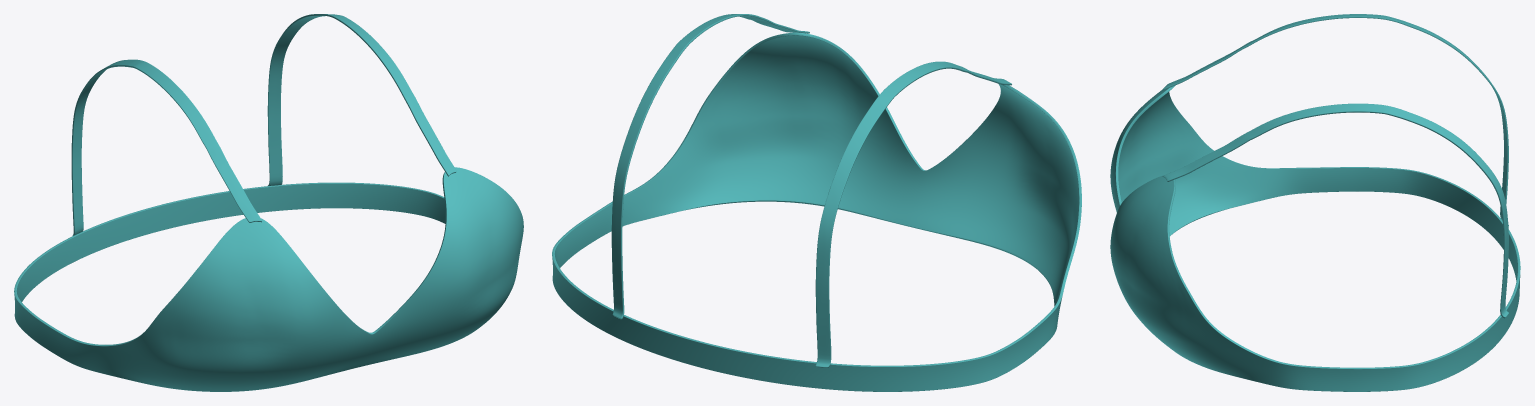
Rendered from Feminine-triangle-top.glb.
3 views of the same model, side by side, from view 1: azimuth 30°, elevation 25°; view 2: azimuth 150°, elevation 25°; view 3: azimuth 270°, elevation 25° (orthographic). The views are drawn at different scales.
Parts seen in each view (by area): view 1: Clothing / connected triangle201, Clothing / Triangle sewn strap201 -1, Clothing / Triangle sewn strap201 1; view 2: Clothing / connected triangle201, Clothing / Triangle sewn strap201 -1, Clothing / Triangle sewn strap201 1; view 3: Clothing / connected triangle201, Clothing / Triangle sewn strap201 1, Clothing / Triangle sewn strap201 -1.
Part boxes in pixels (left/top/right/bottom): Clothing / connected triangle201: left=14, top=167, right=523, bottom=391; Clothing / Triangle sewn strap201 -1: left=71, top=59, right=261, bottom=235; Clothing / Triangle sewn strap201 1: left=267, top=14, right=456, bottom=185; Clothing / connected triangle201: left=552, top=32, right=1081, bottom=391; Clothing / Triangle sewn strap201 -1: left=815, top=61, right=1011, bottom=367; Clothing / Triangle sewn strap201 1: left=611, top=14, right=809, bottom=319; Clothing / connected triangle201: left=1110, top=85, right=1520, bottom=391; Clothing / Triangle sewn strap201 1: left=1162, top=103, right=1508, bottom=318; Clothing / Triangle sewn strap201 -1: left=1162, top=14, right=1508, bottom=225.
Size of the model in its own units: 0.5561 by 0.2979 by 0.4769.
